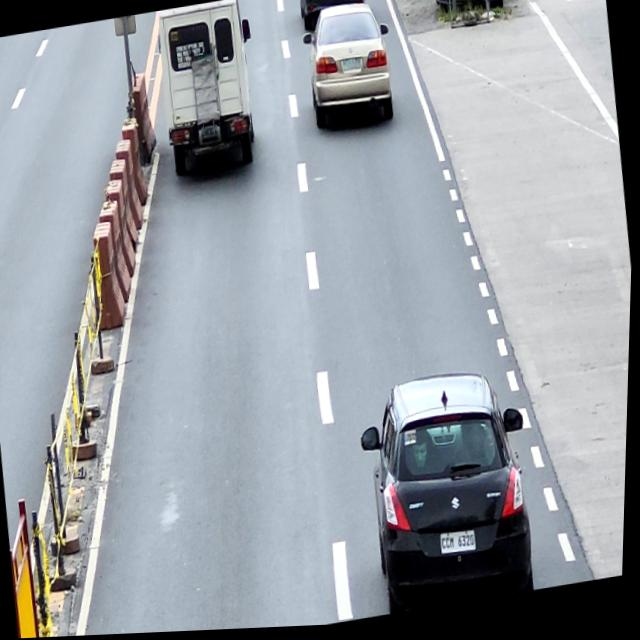Car: (352, 366, 547, 620), (151, 0, 267, 180), (298, 0, 401, 136), (297, 0, 369, 34)
License-Plate: (442, 533, 480, 559), (342, 60, 362, 74)
